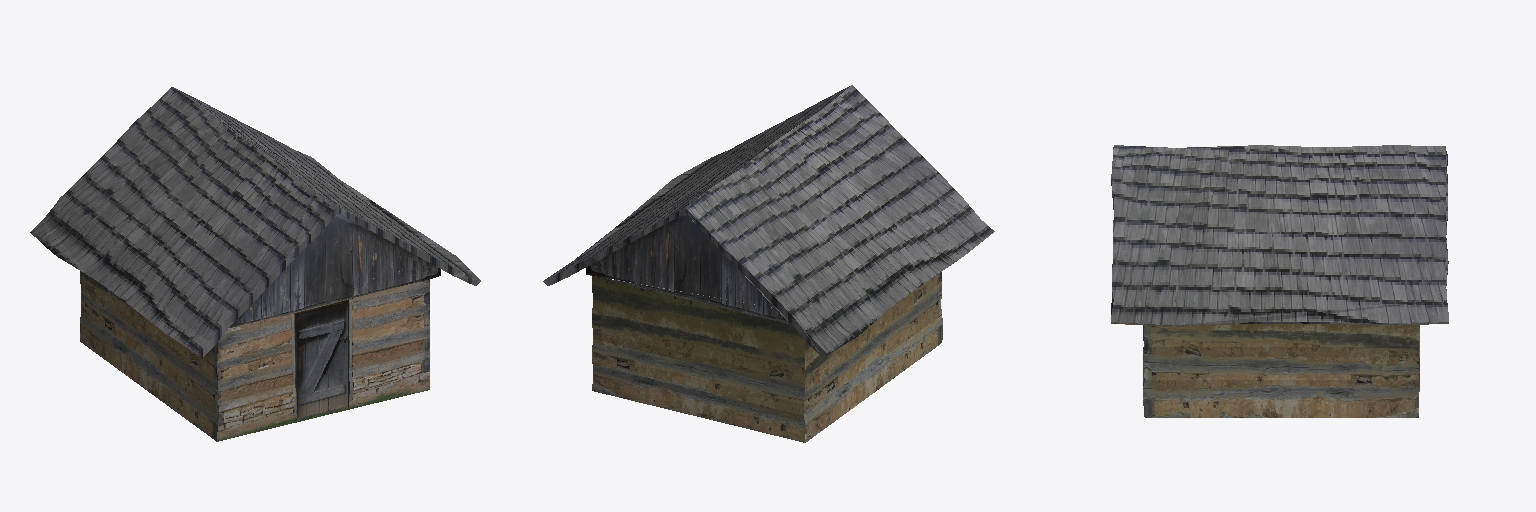
3 views of the same model, side by side, from view 1: azimuth 30°, elevation 25°; view 2: azimuth 150°, elevation 25°; view 3: azimuth 270°, elevation 25° (orthographic).
Parts seen in each view (by area): view 1: hut1, door; view 2: hut1; view 3: hut1.
Part boxes in pixels (bbox=[...]): hut1: bbox=[30, 87, 480, 441]; door: bbox=[297, 305, 347, 417]; hut1: bbox=[543, 85, 994, 442]; hut1: bbox=[1111, 145, 1448, 417].
Bounding box in the file's own units: 13.47 × 9.64 × 13.4.
Materials: 1 (1 with a texture image).